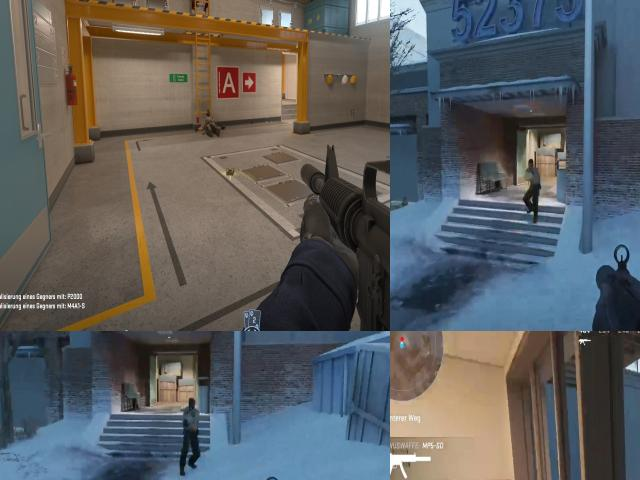Bomb: (224, 166, 236, 176)
Dead: (199, 108, 224, 143)
T: (179, 401, 202, 443), (525, 156, 540, 195)
T-Head: (185, 396, 199, 412), (526, 157, 535, 176)
